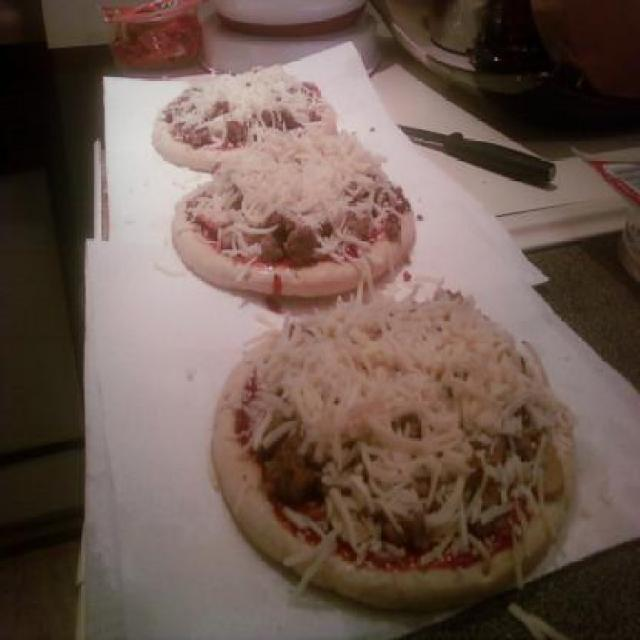Pizza: (224, 283, 578, 565), (173, 113, 410, 270), (158, 65, 347, 148)
